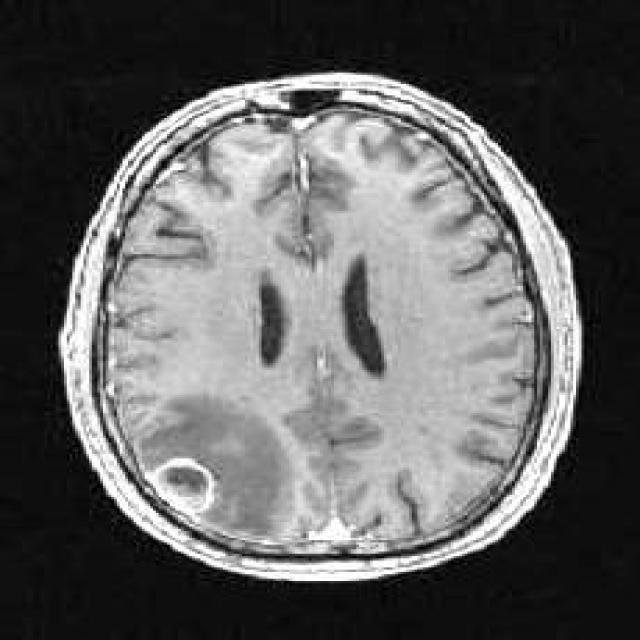notumor: (56, 75, 584, 583)
